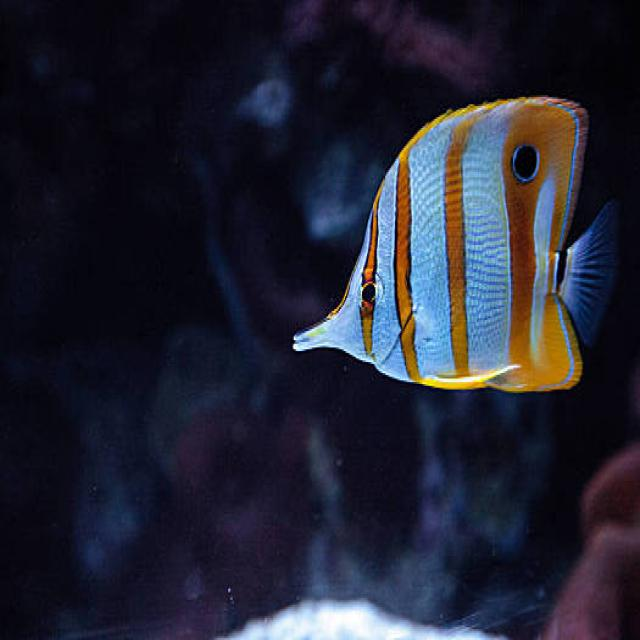ButterflyFish: (294, 100, 609, 417)
